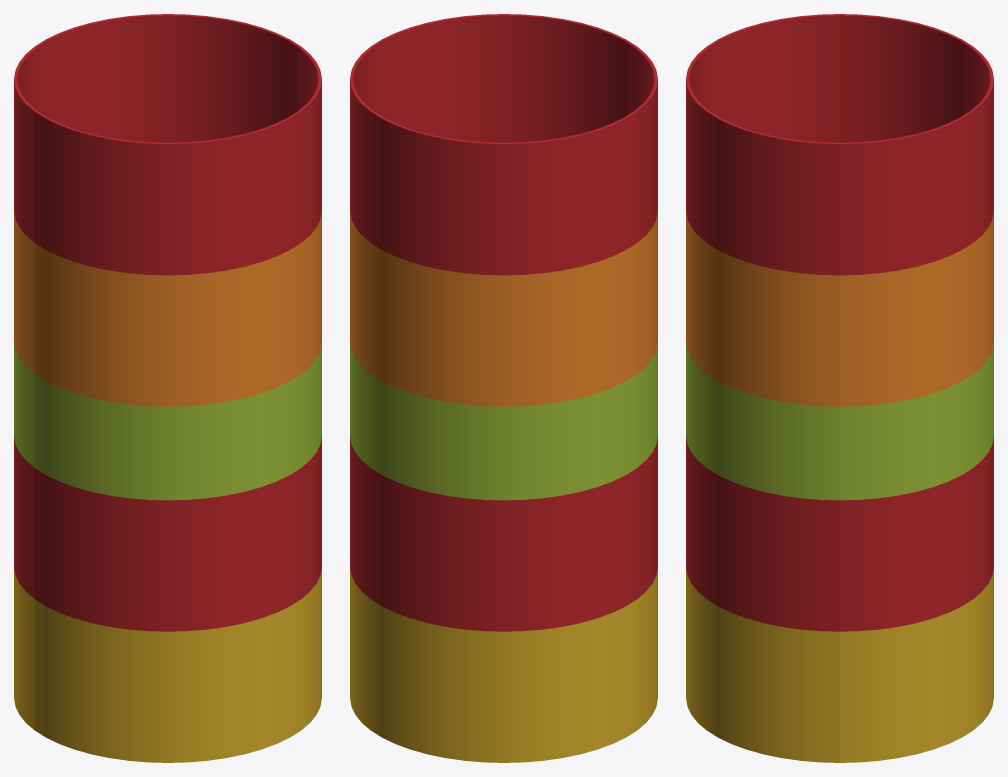
The model's file is packed_bed_reactor_temperature.glb.
The picture shows the model from 3 angles, left to right: view 1: azimuth 30°, elevation 25°; view 2: azimuth 150°, elevation 25°; view 3: azimuth 270°, elevation 25°; orthographic projection.
Visible parts, largest first — view 1: temperature__front, temperature__back; view 2: temperature__back, temperature__front; view 3: temperature__back, temperature__front.
Boxes of the visible parts, x1,y1,x2,y2 form: temperature__front: [34, 46, 321, 762]; temperature__back: [14, 14, 300, 729]; temperature__back: [350, 46, 637, 762]; temperature__front: [371, 14, 657, 729]; temperature__back: [840, 14, 993, 762]; temperature__front: [686, 14, 839, 762].
Size of the model in its own units: 0.744 by 1.65 by 0.744.
